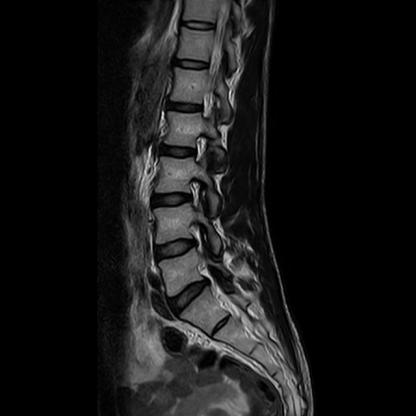Degenerative Disc Diseaserotation: (177, 272, 203, 318)
Disc Bulgerotation: (178, 271, 204, 317)
